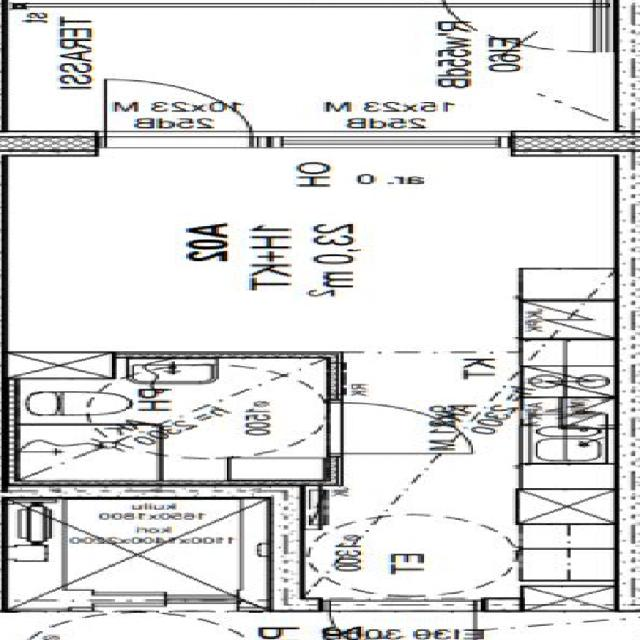door: (107, 74, 252, 148), (443, 0, 598, 52), (328, 402, 474, 453), (330, 598, 478, 640)
